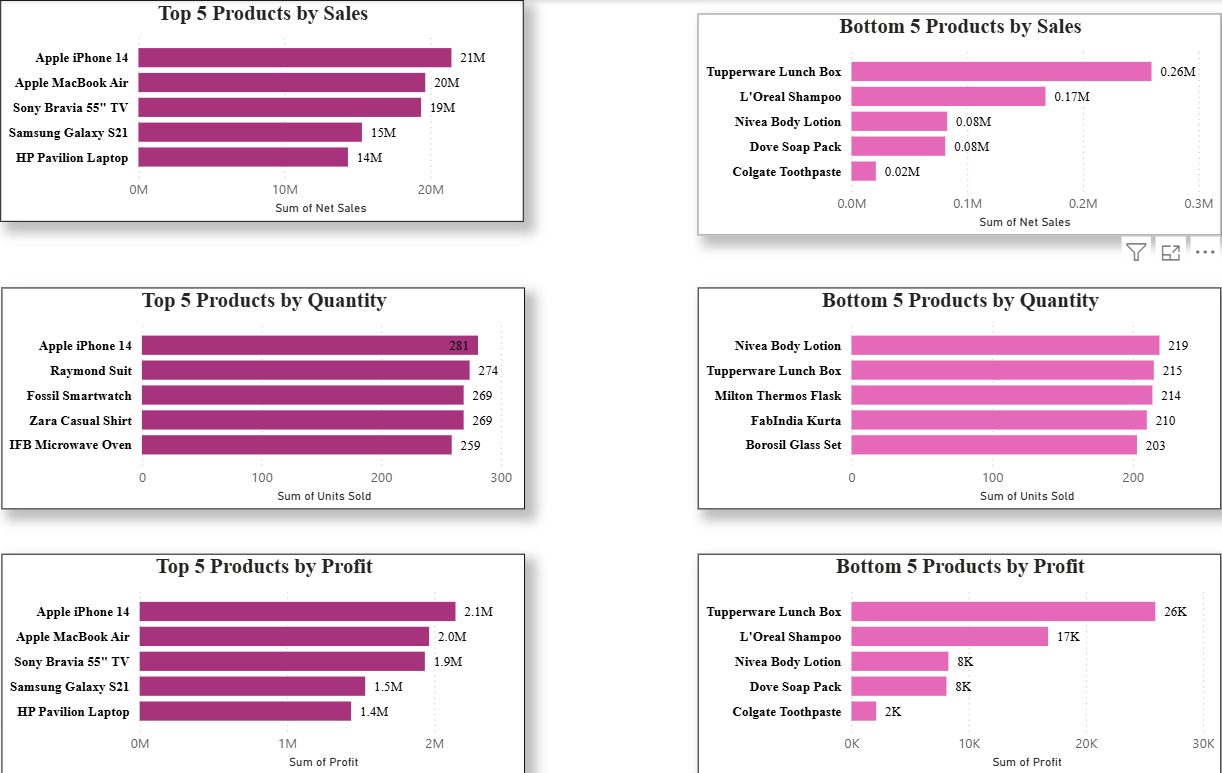

Layout of this report page (visuals, bound fields, positions):
{"tool":"powerbi","page":{"name":"Top/Bottom Analysis","canvas":[1280,720],"ordinal":0},"visuals":[{"type":"barChart","title":"Top 5 Products by Sales","fields":{"Category":["Dim Product.Product Name"],"Y":["Sum(Fact Table.Net Sales  )"]},"box":[10.5,0,472.1,200],"z":0},{"type":"barChart","title":"Bottom 5 Products by Sales","fields":{"Category":["Dim Product.Product Name"],"Y":["Sum(Fact Table.Net Sales  )"]},"box":[639.5,12.3,472,200.3],"z":1000},{"type":"barChart","title":"Top 5 Products by Quantity","fields":{"Category":["Dim Product.Product Name"],"Y":["Sum(Fact Table.Units Sold)"]},"box":[11,259.3,472,200.3],"z":2000},{"type":"barChart","title":"Bottom 5 Products by Quantity","fields":{"Category":["Dim Product.Product Name"],"Y":["Sum(Fact Table.Units Sold)"]},"box":[639.5,259.3,472,200.3],"z":3000},{"type":"barChart","title":"Top 5 Products by Profit","fields":{"Category":["Dim Product.Product Name"],"Y":["Sum(Fact Table.Profit)"]},"box":[11,499.5,472,200.3],"z":4000},{"type":"barChart","title":"Bottom 5 Products by Profit","fields":{"Category":["Dim Product.Product Name"],"Y":["Sum(Fact Table.Profit)"]},"box":[639.5,499.5,472,200.3],"z":5000}]}

Visuals, with their boxes on the page's 1280x720 design canvas (x1, y1, x2, y2). These are canvas units, not pixel positions in the 1222x773 screenshot, which may show the page scaled, cropped or inside an application window:
"Top 5 Products by Sales" barChart: {"left": 10, "top": 0, "right": 483, "bottom": 200}
"Bottom 5 Products by Sales" barChart: {"left": 640, "top": 12, "right": 1112, "bottom": 213}
"Top 5 Products by Quantity" barChart: {"left": 11, "top": 259, "right": 483, "bottom": 460}
"Bottom 5 Products by Quantity" barChart: {"left": 640, "top": 259, "right": 1112, "bottom": 460}
"Top 5 Products by Profit" barChart: {"left": 11, "top": 500, "right": 483, "bottom": 700}
"Bottom 5 Products by Profit" barChart: {"left": 640, "top": 500, "right": 1112, "bottom": 700}
